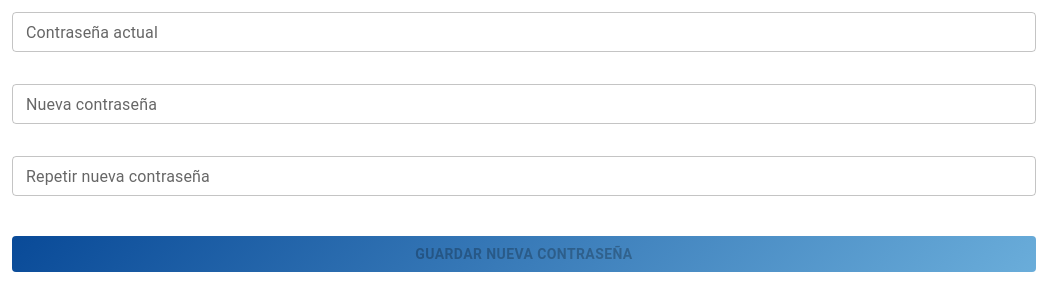
Scenario: FormularioCambioPassword › avisa cuando la repetición no coincide
In the password field labelled "Contraseña actual": {"x": 524, "y": 32} [12,12,1036,52], type "vieja123"
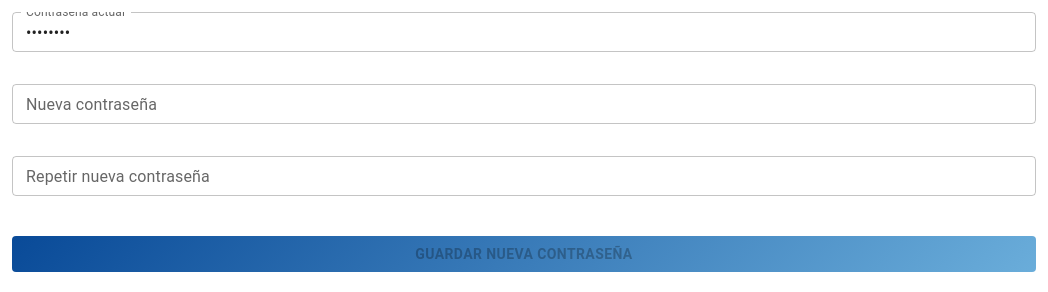
In the password field labelled "Nueva contraseña": {"x": 524, "y": 104} [12,84,1036,124], type "NuevaClave1"
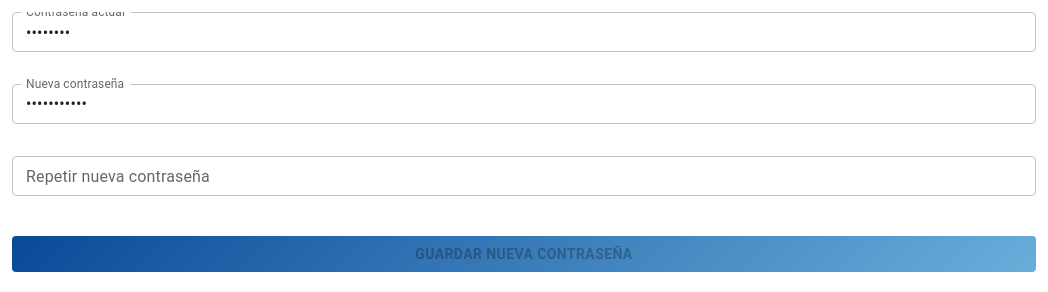
In the password field labelled "Repetir nueva contraseña": {"x": 524, "y": 176} [12,156,1036,196], type "otra"
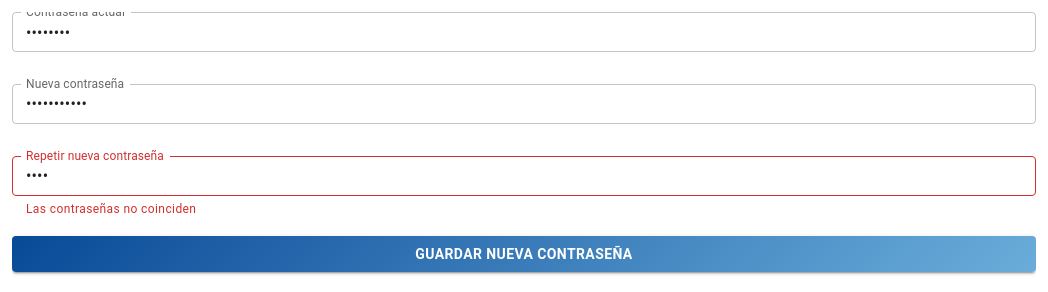
Check: the text "Las contraseñas no coinciden" is shown, box [26,202,196,216]
